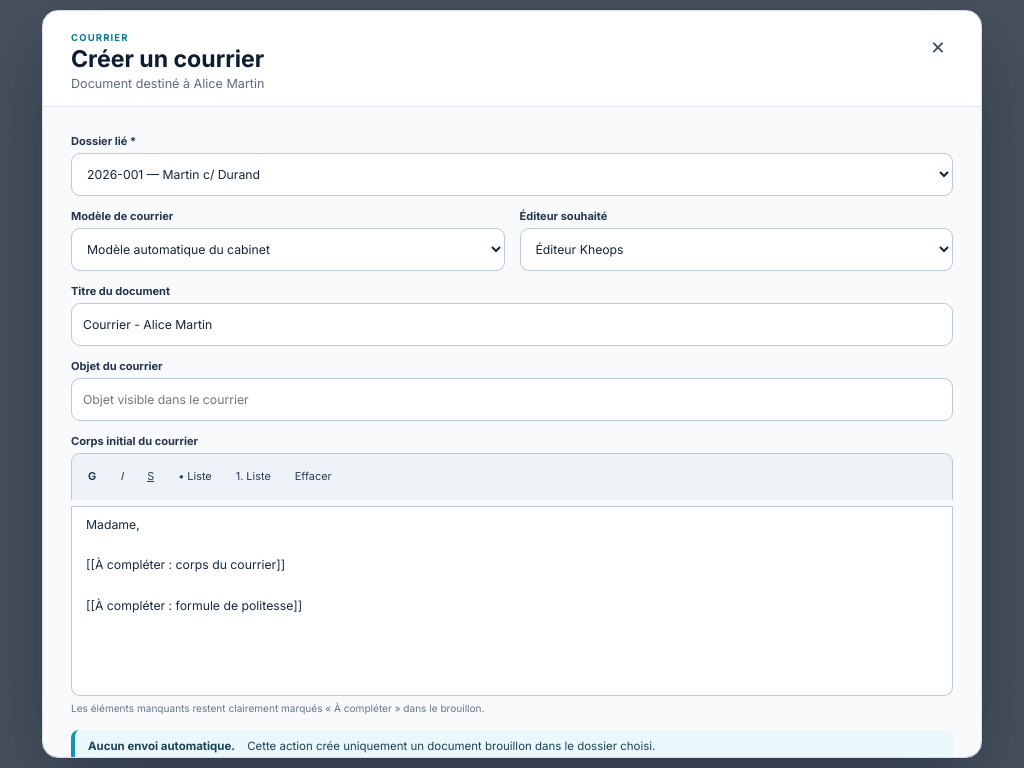
CreateLetterModal › crée uniquement un brouillon prérempli et transmet le contenu ponctuel
Expected: the field showing "Courrier - Alice Martin" is shown, [71,303,953,346]
Expected: the dropdown labelled "Dossier lié *" shows "2026-001 — Martin c/ Durand", [71,153,953,196]
Step 1. Select "Courrier cabinet · v3" in the dropdown labelled "Modèle de courrier" → (288, 249), box [71,228,504,271]
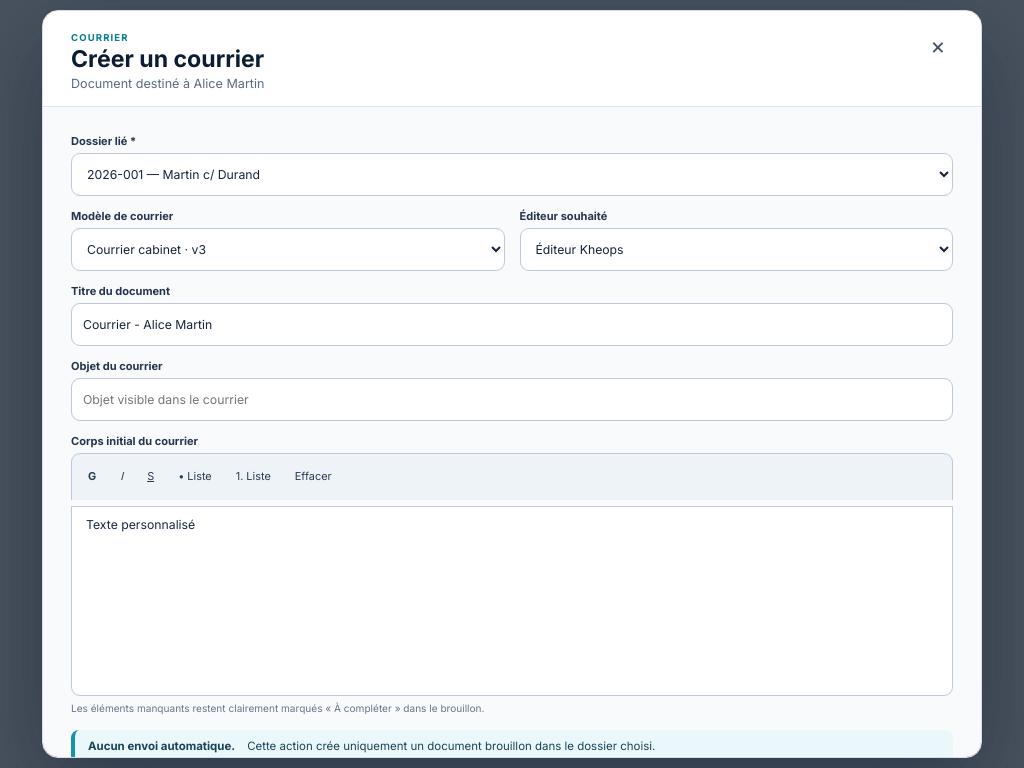
Step 2. Clear the field named "Corps initial du courrier" → (512, 601), box [71,506,953,696]
(page scrolled)
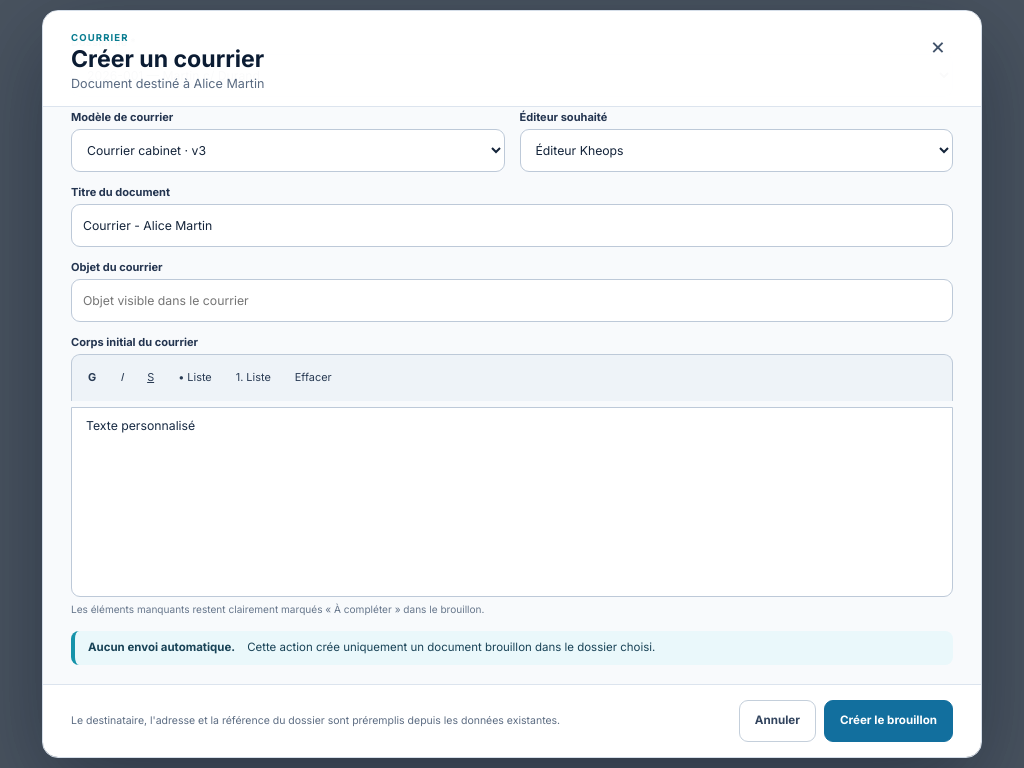
Step 3. Click the button "Créer le brouillon" → (888, 721), box [824,700,953,742]
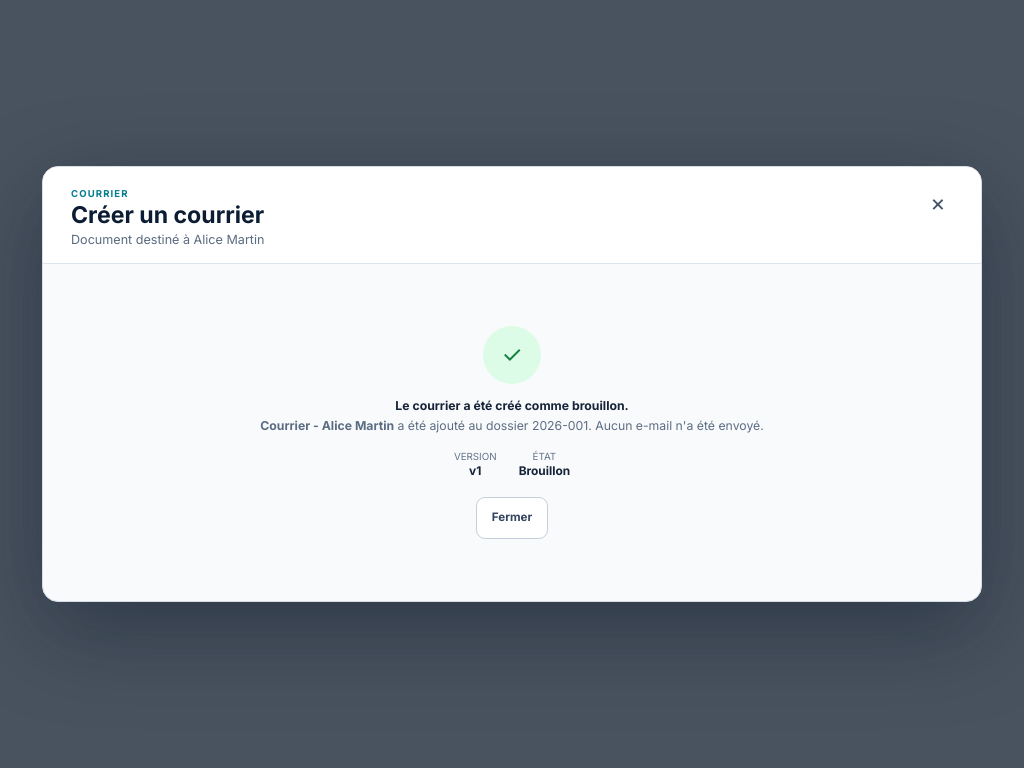
Expected: the text "Aucun e-mail n'a été envoyé" is shown, [588,418,764,433]
